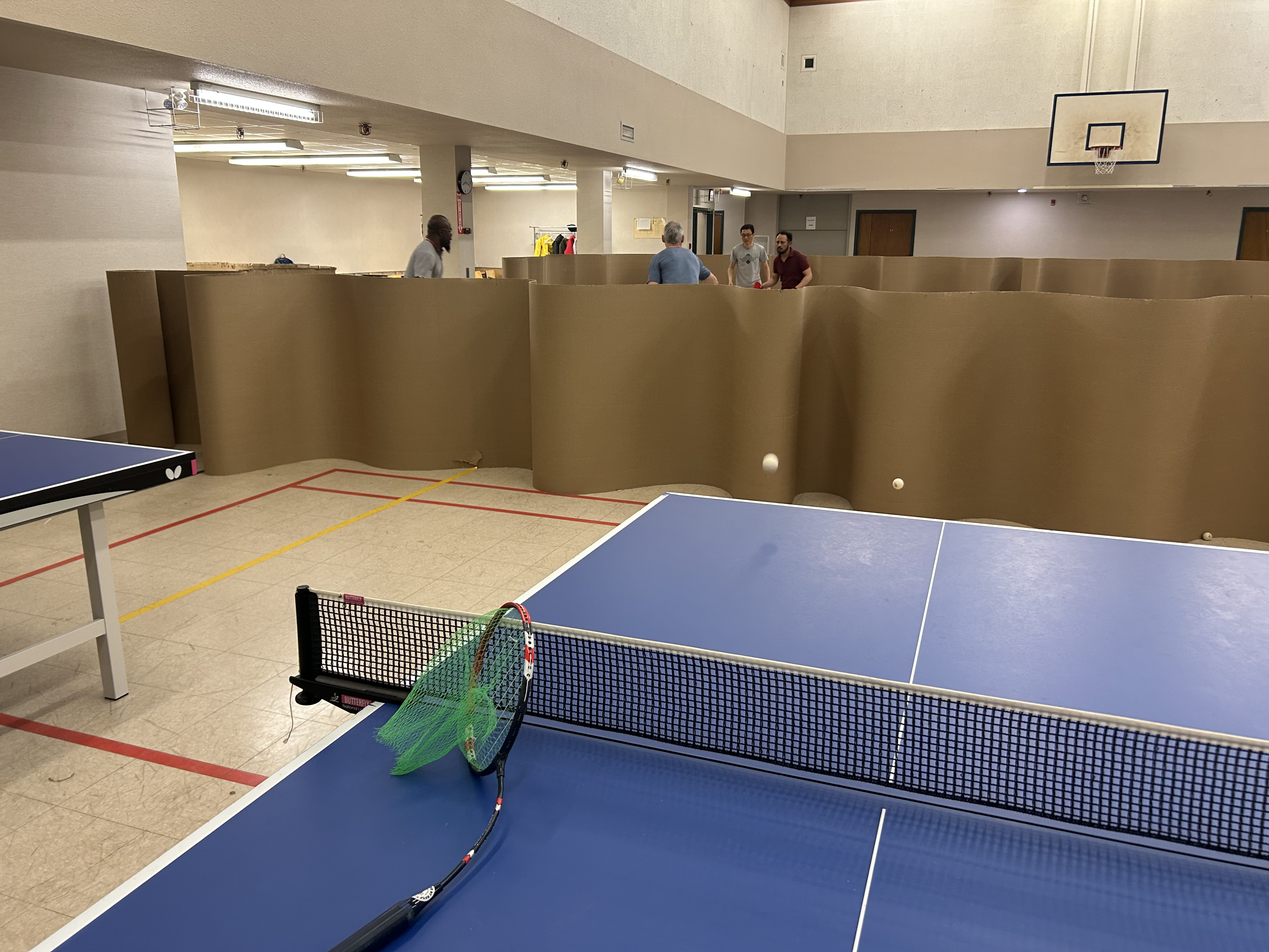Ball: (762, 448, 780, 474)
